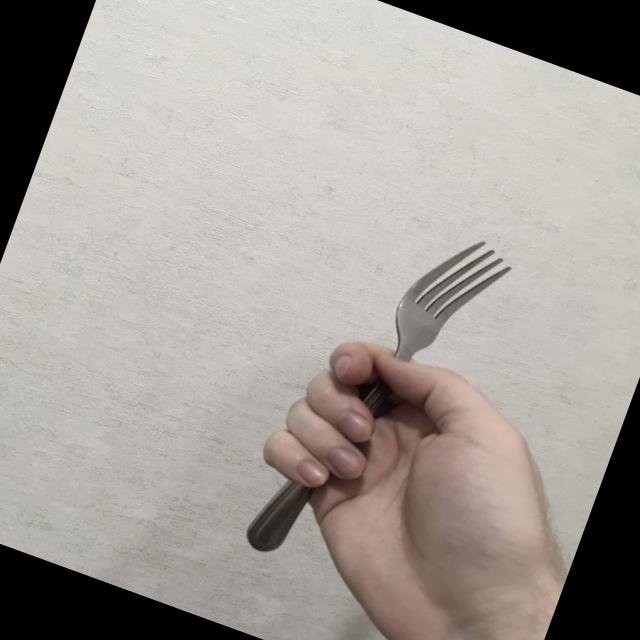fork: (244, 198, 520, 601)
